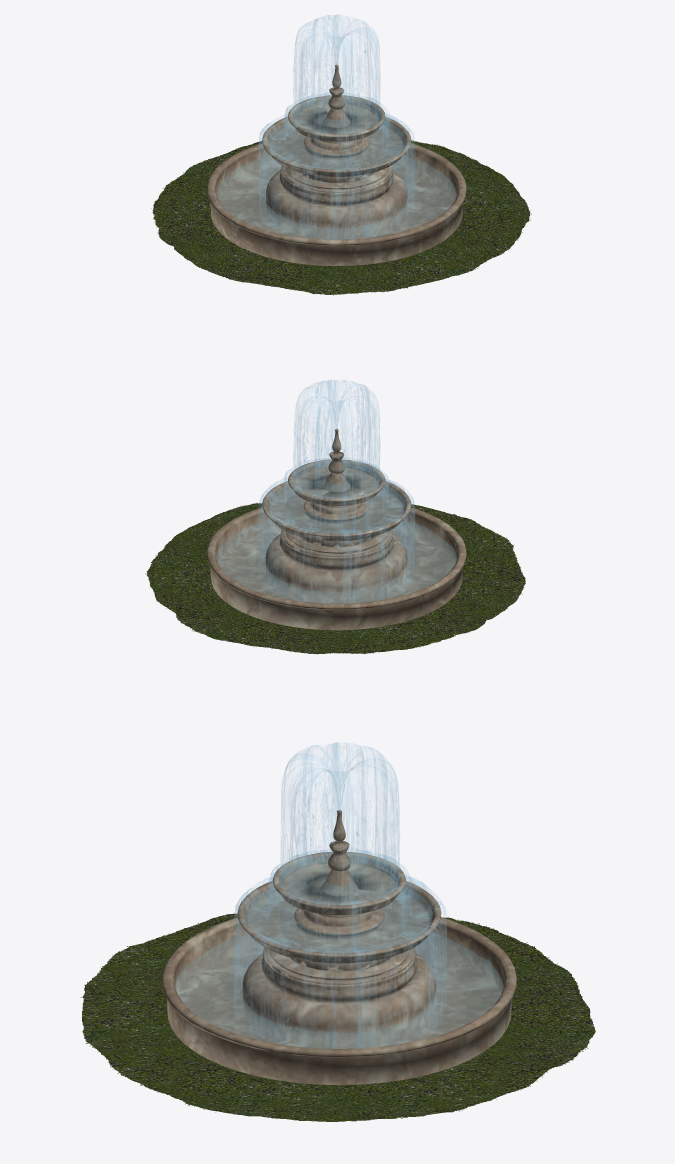
The model's file is fountain_optimized.glb.
3 views of the same model, one above another, from view 1: azimuth 30°, elevation 25°; view 2: azimuth 150°, elevation 25°; view 3: azimuth 270°, elevation 25° (orthographic). The views are drawn at different scales.
Visible parts, largest first — view 1: h_1Shape, hShape, fShape, f_1Shape, f_3Shape, f_2Shape; view 2: h_1Shape, hShape, fShape, f_1Shape, f_3Shape, f_2Shape; view 3: h_1Shape, hShape, fShape, f_1Shape, f_3Shape, f_2Shape.
Boxes of the visible parts, x1=… form: h_1Shape: x1=207, y1=64, x2=466, y2=265; hShape: x1=151, y1=140, x2=531, y2=295; fShape: x1=258, y1=14, x2=415, y2=239; f_1Shape: x1=216, y1=155, x2=456, y2=239; f_3Shape: x1=268, y1=121, x2=405, y2=169; f_2Shape: x1=292, y1=98, x2=380, y2=133; h_1Shape: x1=207, y1=429, x2=466, y2=630; hShape: x1=145, y1=502, x2=525, y2=654; fShape: x1=257, y1=379, x2=414, y2=603; f_1Shape: x1=216, y1=520, x2=456, y2=603; f_3Shape: x1=268, y1=485, x2=405, y2=533; f_2Shape: x1=292, y1=462, x2=380, y2=497; h_1Shape: x1=162, y1=810, x2=516, y2=1085; hShape: x1=80, y1=913, x2=595, y2=1121; fShape: x1=234, y1=742, x2=446, y2=1048; f_1Shape: x1=175, y1=933, x2=503, y2=1048; f_3Shape: x1=245, y1=887, x2=432, y2=952; f_2Shape: x1=279, y1=855, x2=399, y2=904.
Size of the model in its own units: 1981 by 865 by 1981.
4 materials, 4 textured.
